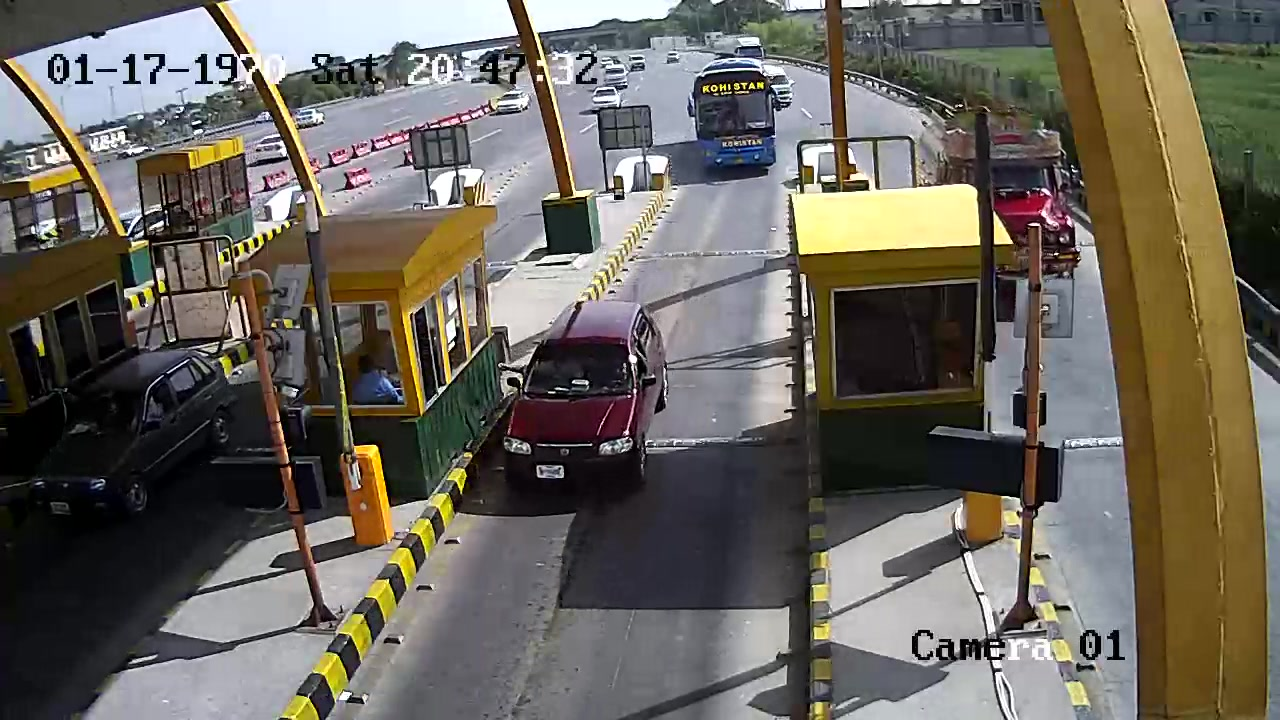F1: (507, 290, 674, 496)
